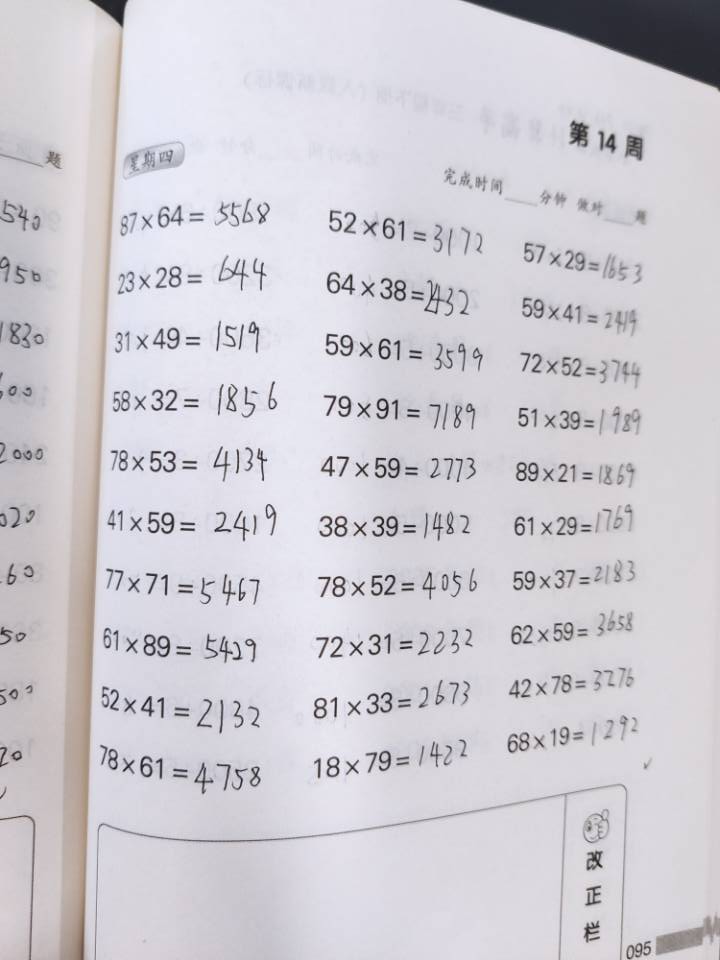equation: (316, 593, 369, 828), (273, 571, 320, 823), (554, 589, 600, 845), (365, 573, 408, 827), (183, 591, 232, 812), (545, 323, 591, 555), (290, 303, 334, 545), (231, 591, 277, 821), (171, 57, 218, 281), (330, 301, 372, 548), (458, 589, 501, 828), (142, 584, 188, 803), (151, 305, 193, 536), (507, 597, 548, 833), (245, 296, 284, 544), (412, 601, 454, 829), (504, 319, 544, 557), (376, 313, 415, 551), (419, 313, 456, 559), (532, 87, 576, 293), (463, 316, 502, 547), (492, 88, 535, 293), (199, 313, 236, 537), (222, 83, 261, 291), (374, 88, 413, 288), (298, 81, 335, 287), (453, 96, 491, 296), (338, 93, 376, 287), (414, 89, 450, 292), (260, 81, 297, 273)
